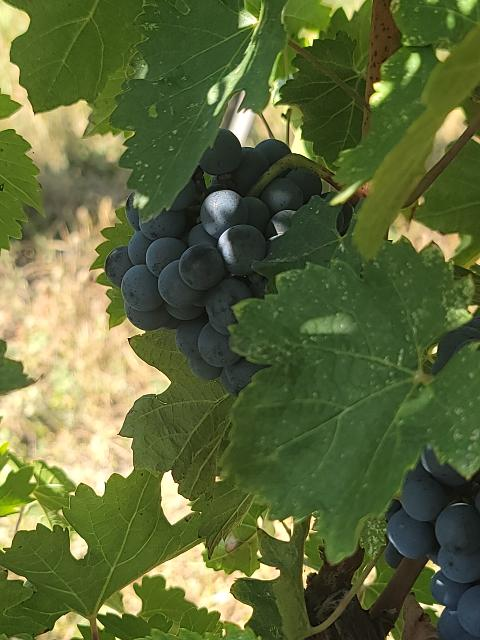grapes: (105, 129, 321, 396)
